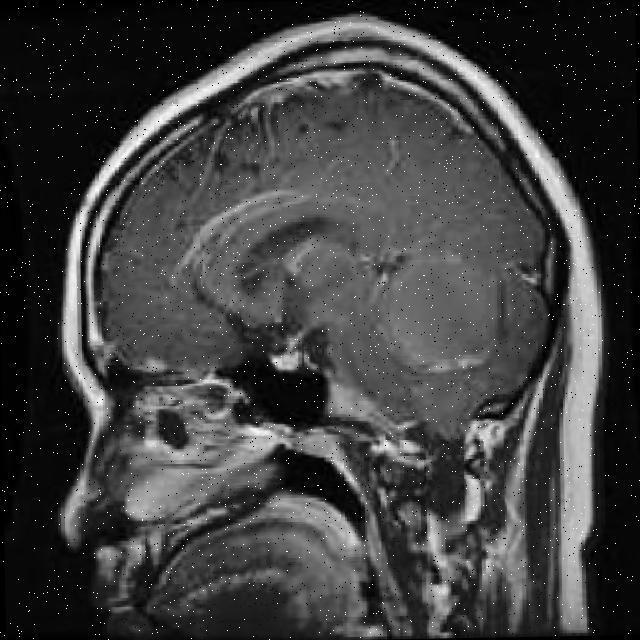EMCI: (187, 200, 334, 322)
